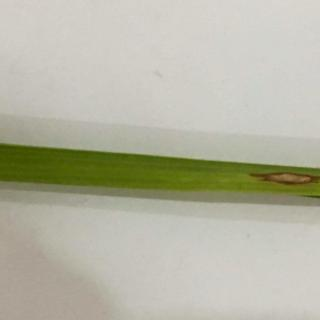Blast: (247, 158, 320, 196)
